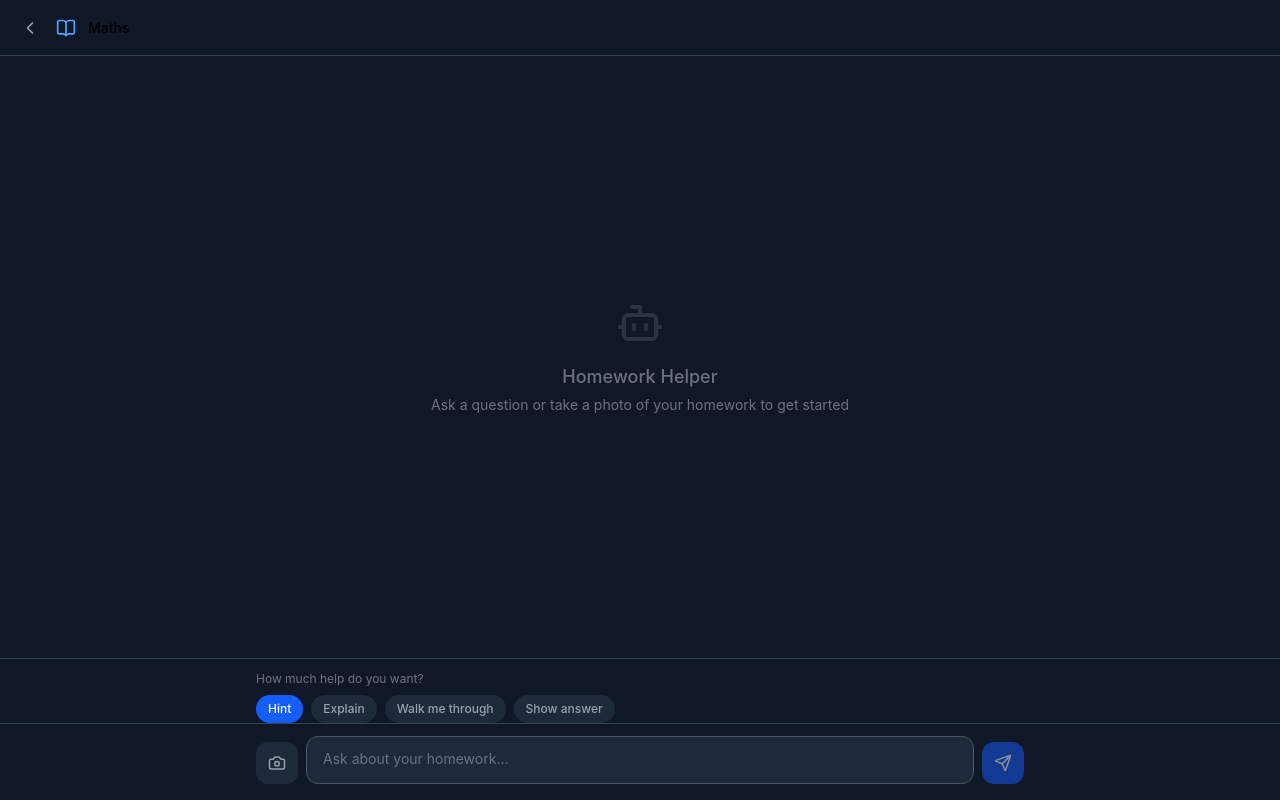
Scenario: HomeworkChat – send message flow › shows error banner when send fails
Expected: the text "Homework Helper" is shown, [562,363,718,391]
In the text box: (640, 760) [306,736,974,784], type "What is entropy?"
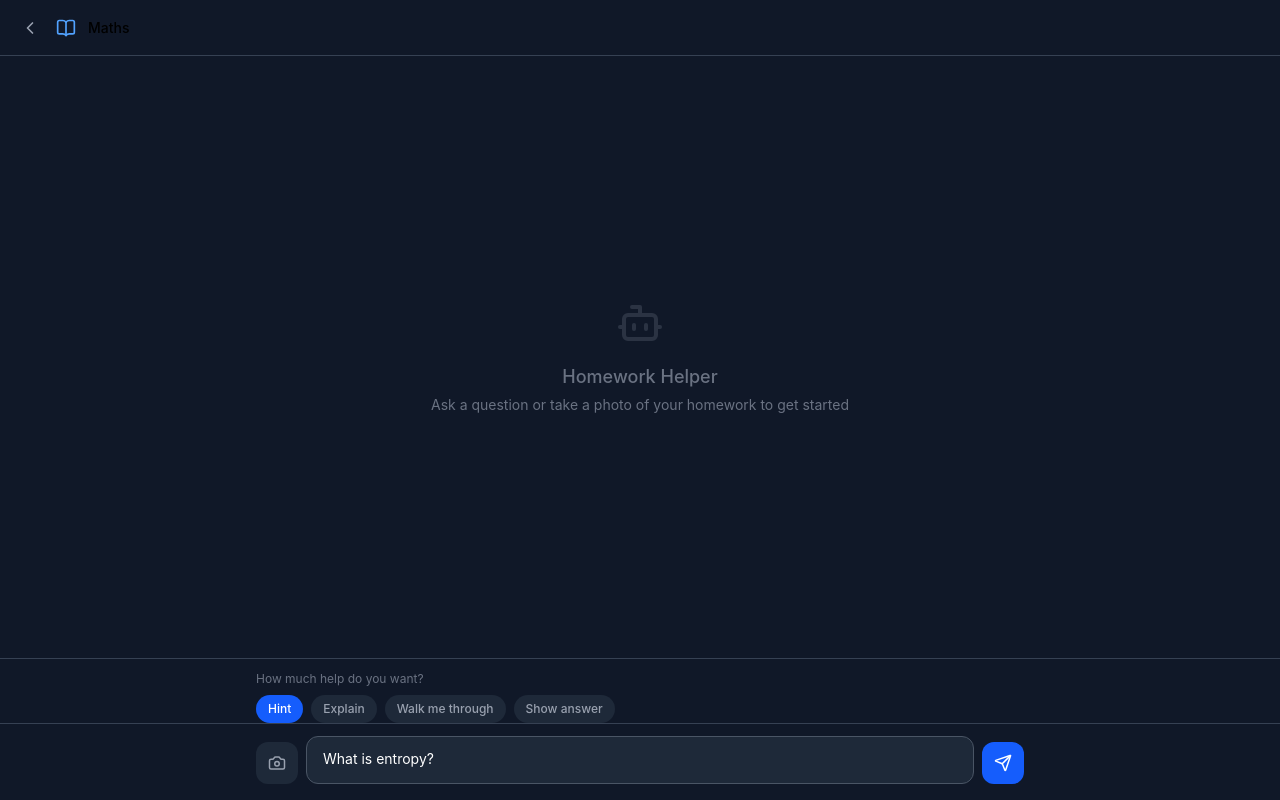
Click the button named "Send message": (1003, 763) [982,742,1024,784]
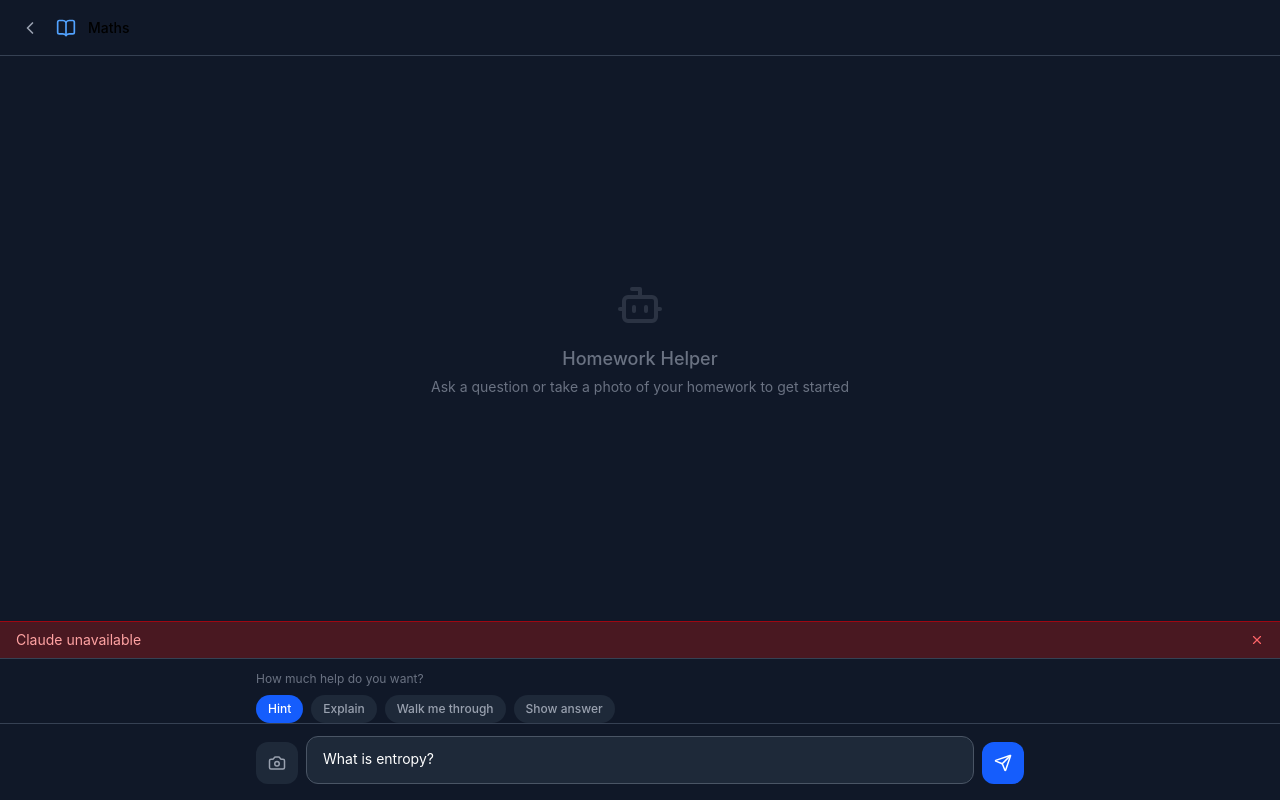
Expected: the text "Claude unavailable" is shown, [16,630,141,650]
